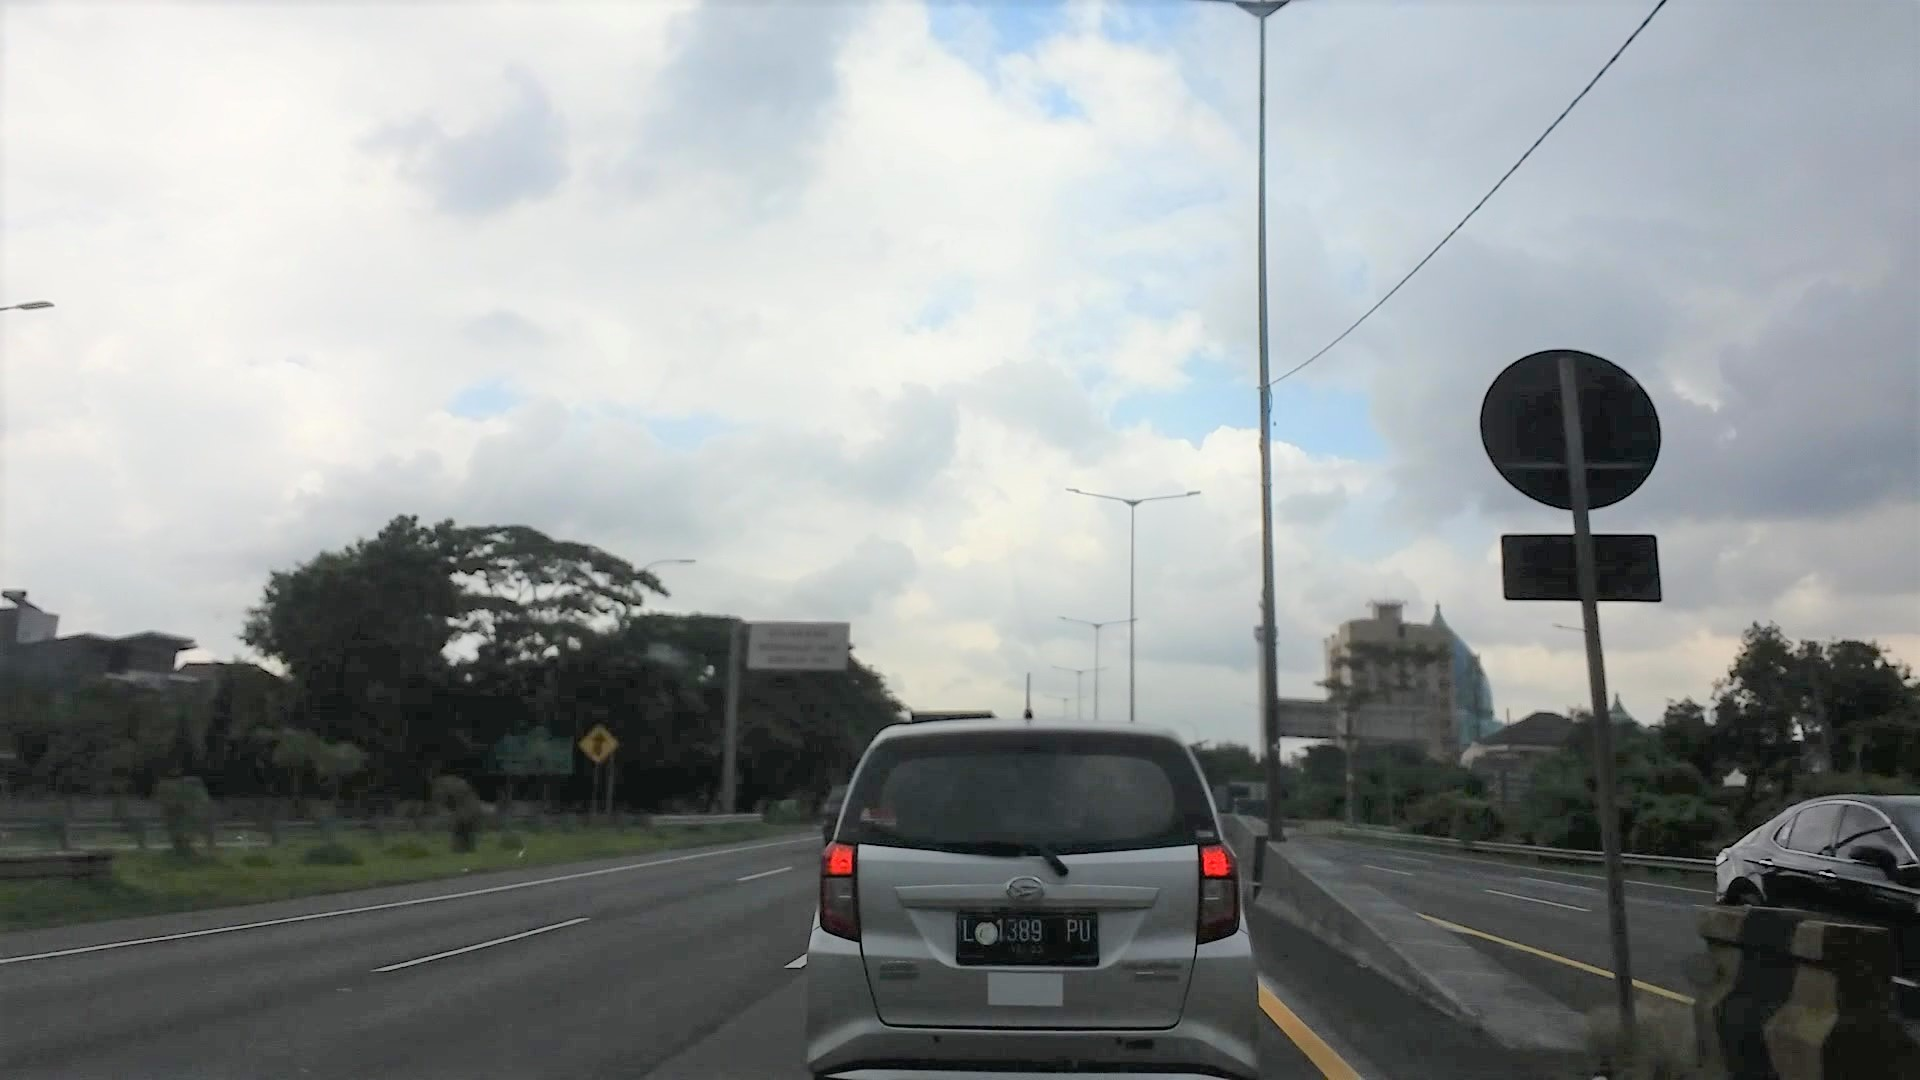plate_positive: (957, 910, 1098, 967)
